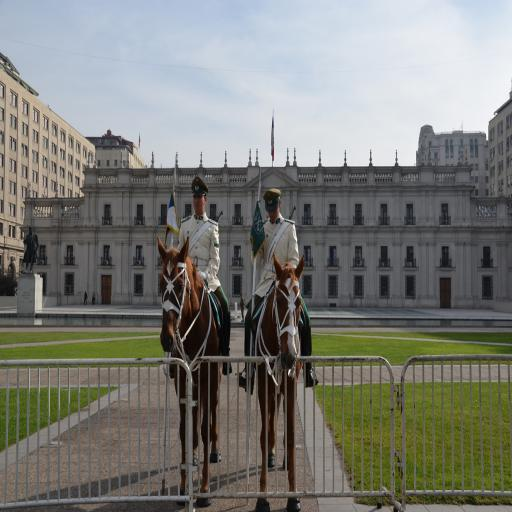horse: (158, 233, 224, 507), (248, 250, 306, 512)
